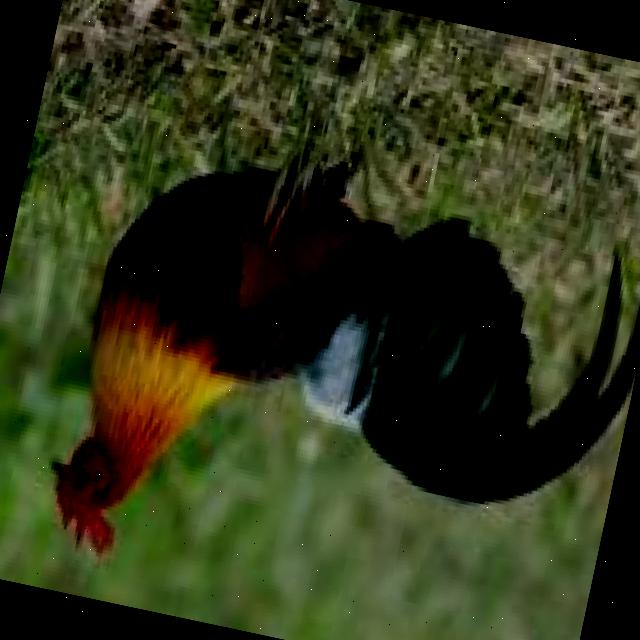Healthy: (27, 62, 640, 640)
